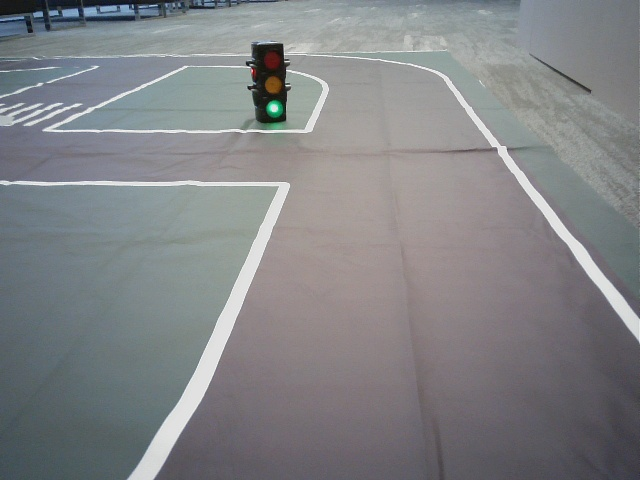green: (256, 47, 283, 119)
